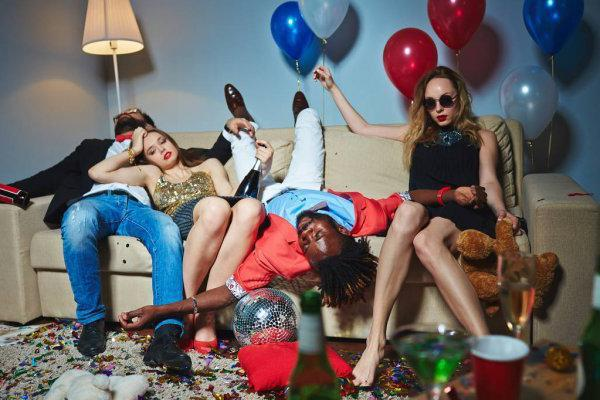Drunk: (295, 210, 340, 260), (135, 129, 176, 168), (423, 79, 457, 125)
